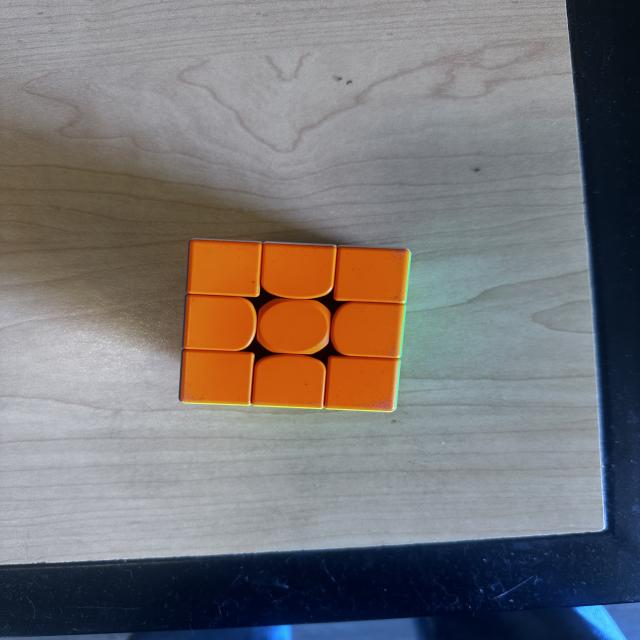sticker: (185, 237, 265, 300), (332, 244, 413, 306), (259, 241, 337, 300), (324, 355, 402, 413), (330, 301, 406, 360), (184, 294, 259, 353), (255, 298, 332, 355), (180, 349, 256, 406), (250, 354, 328, 409)
